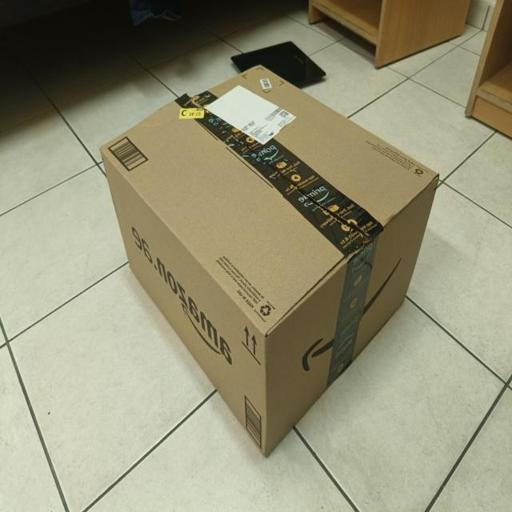Amazon: (101, 63, 444, 464)
